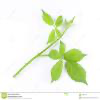Raspberry leaf: (65, 59, 90, 88), (50, 59, 64, 85), (63, 49, 89, 62), (41, 8, 54, 26), (45, 29, 56, 45), (48, 49, 62, 60), (59, 38, 66, 56), (55, 14, 64, 28), (55, 27, 62, 39)
